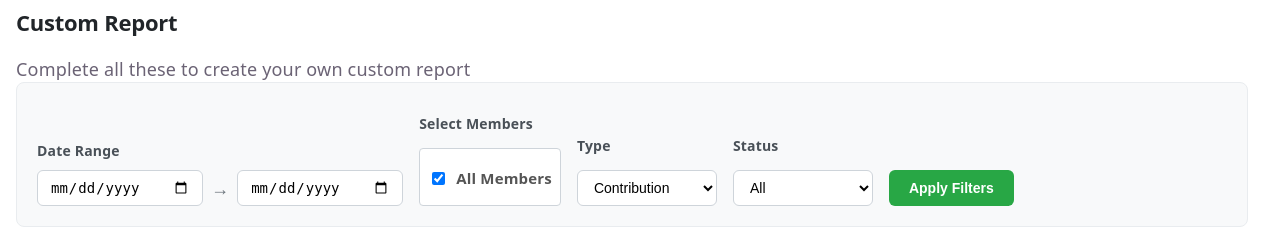
CustomView Page › shows loading state while fetching analytics
Type "2026-01-01" into the 1st date field.
click(120, 188); type("2026-01-01")  # box [37,170,203,206]
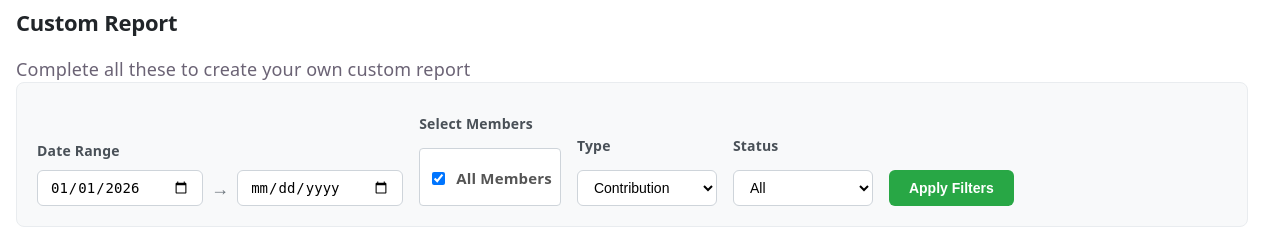
Type "2026-06-01" into the 2nd date field.
click(320, 188); type("2026-06-01")  # box [237,170,403,206]
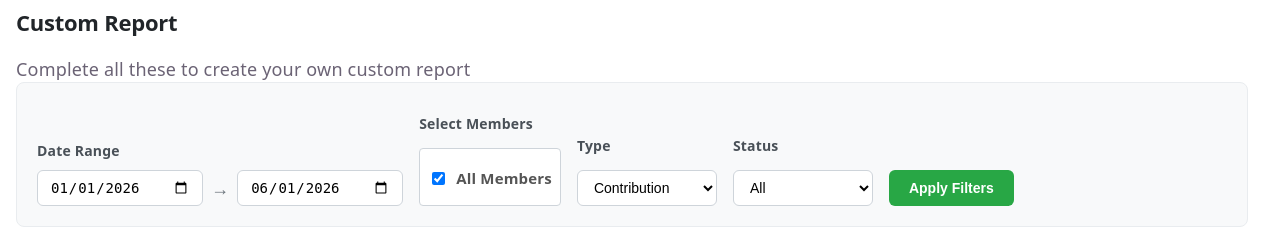
Click the button "Apply Filters".
click(951, 188)  # box [889,170,1014,206]
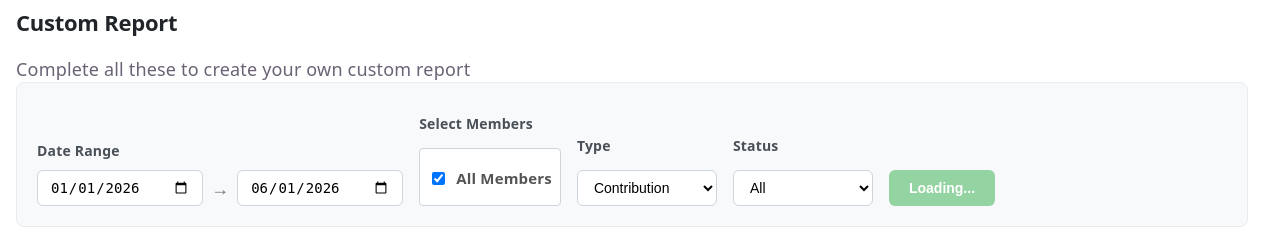
Now the button "Loading..." is disabled, box [889,170,995,206]
